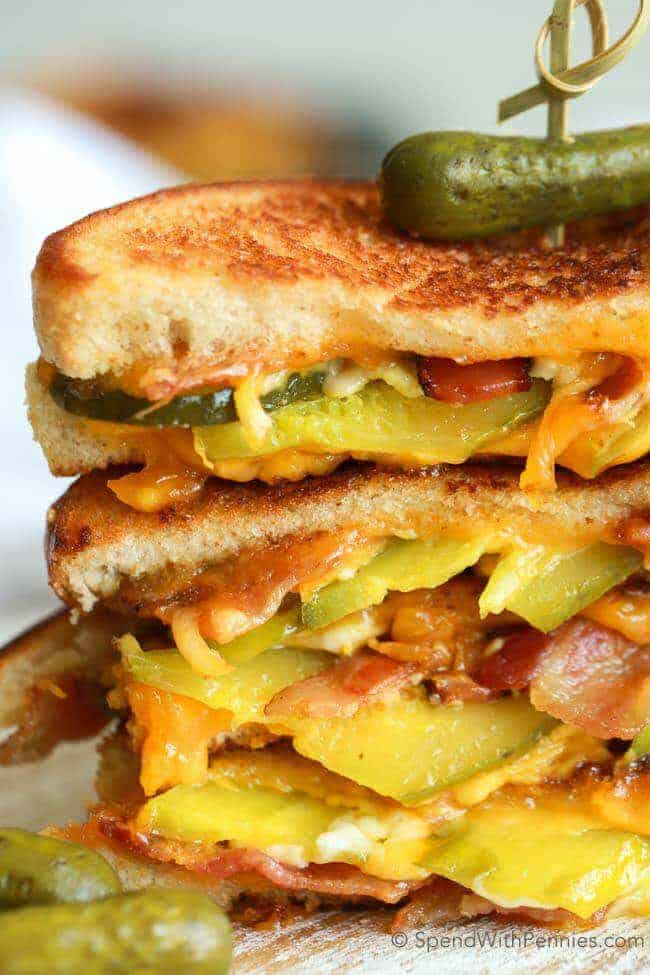cheese: (131, 370, 649, 839)
